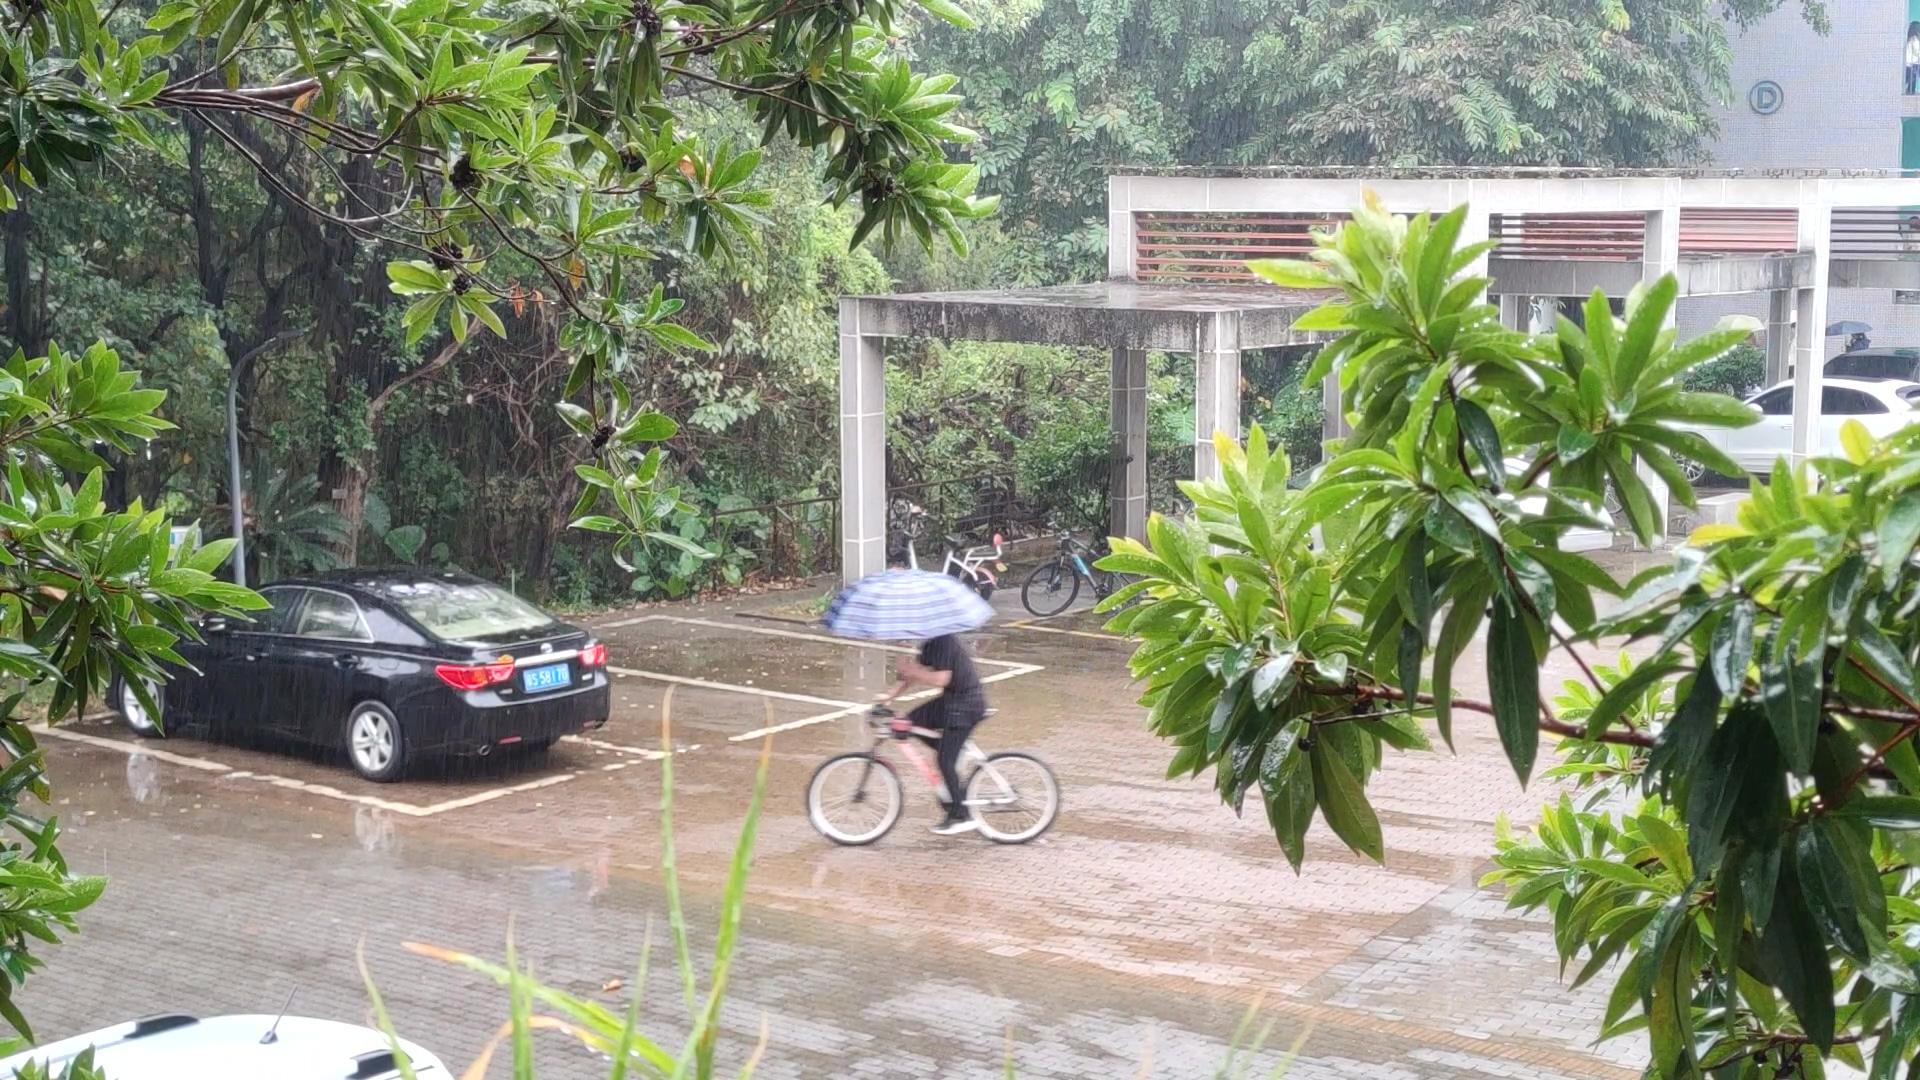space-empty: (284, 626, 866, 761), (510, 615, 1046, 707)
space-occupied: (17, 665, 658, 814)
